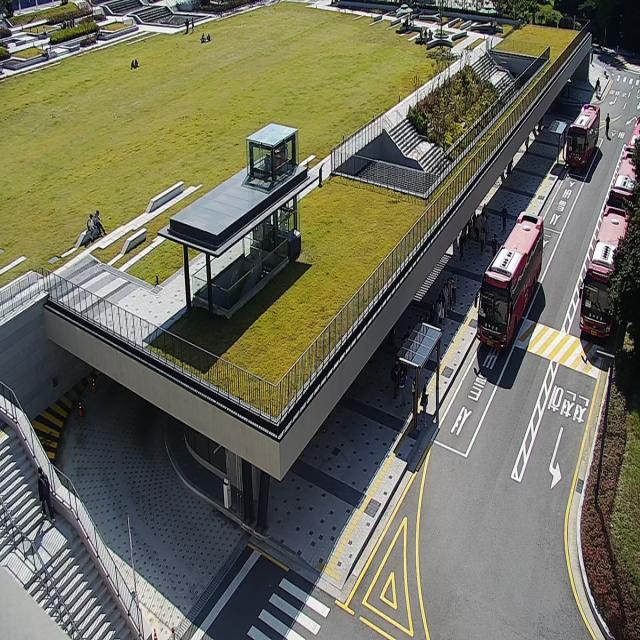queue: (415, 273, 457, 440)
